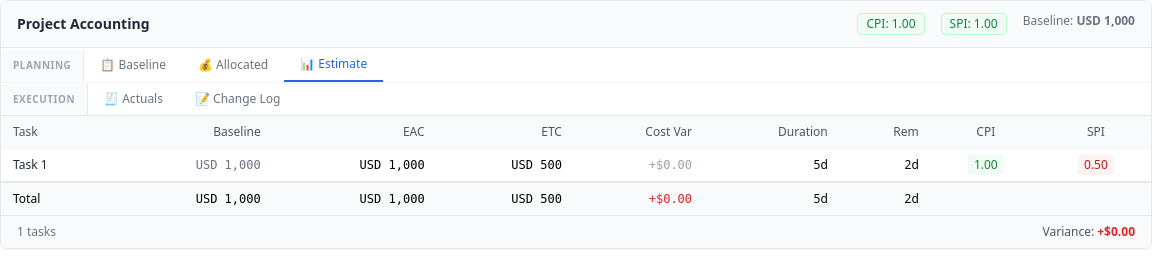
Test case: AccountingDashboard › renders Edit and Delete buttons per spend entry
Note: Switch to Actuals tab
Step 1. Click the button "🧾 Actuals" → (134,99), box [88,83,179,115]
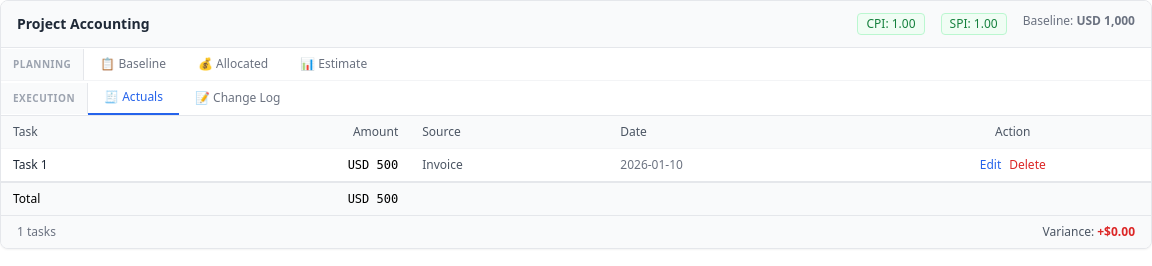
Check: the button "Edit" is shown, box [980,157,1001,173]
Check: the button "Delete" is shown, box [1009,157,1046,173]
